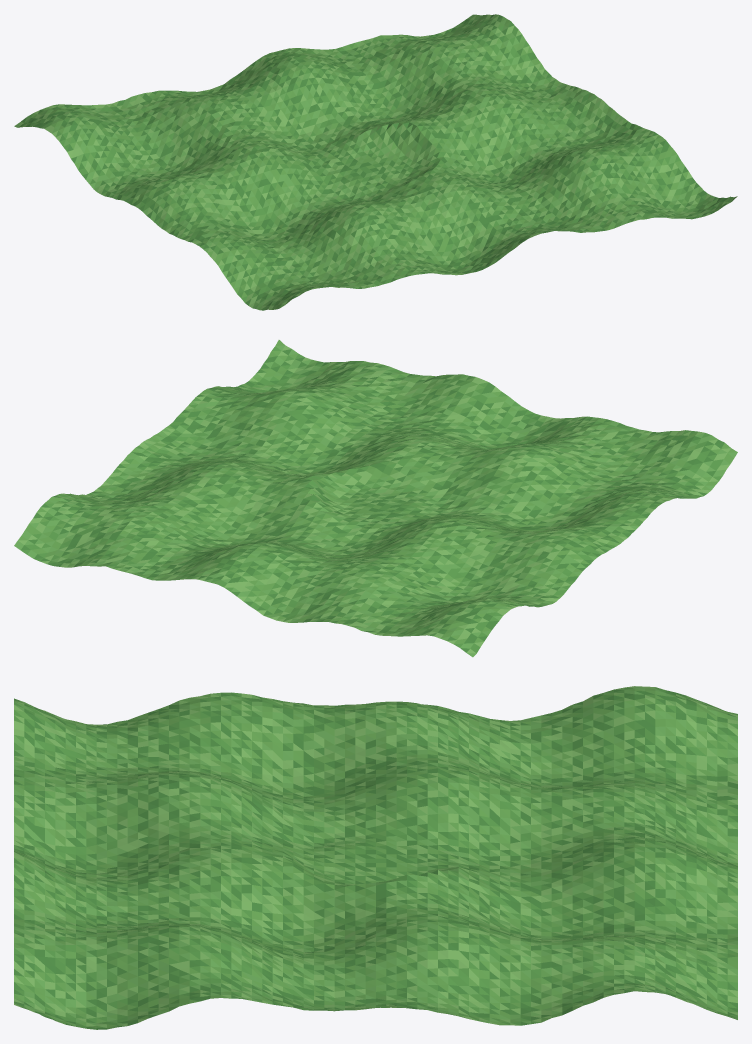
Rendered from hills.glb.
3 renders of one model, top to bottom at view 1: azimuth 30°, elevation 25°; view 2: azimuth 150°, elevation 25°; view 3: azimuth 270°, elevation 25°, orthographic. The views are drawn at different scales.
Parts seen in each view (by area): view 1: hills; view 2: hills; view 3: hills.
Part boxes in pixels (left/top/right/bottom): hills: left=14, top=14, right=737, bottom=310; hills: left=14, top=340, right=737, bottom=657; hills: left=14, top=686, right=737, bottom=1029.
Bounding box in the file's own units: 140 × 10.65 × 140.
